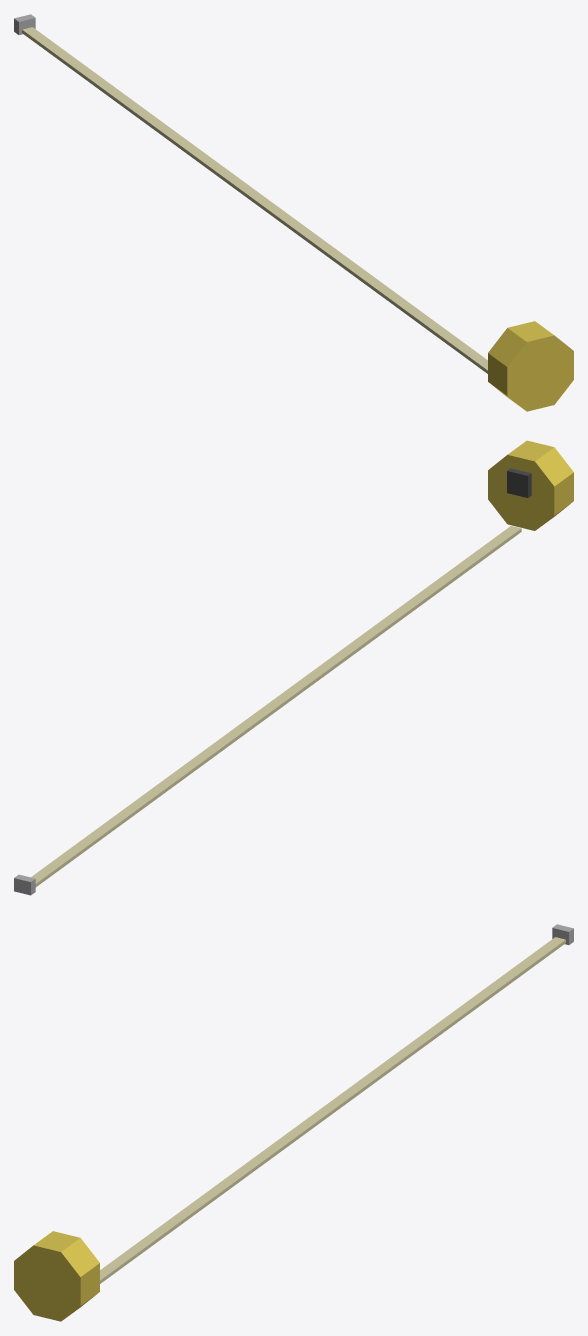
File: tape_measure_deco.glb
3 renders of one model, top to bottom at view 1: azimuth 30°, elevation 25°; view 2: azimuth 150°, elevation 25°; view 3: azimuth 330°, elevation 25°, orthographic.
Parts seen in each view (by area): view 1: Tape_measure; view 2: Tape_measure; view 3: Tape_measure.
Part boxes in pixels (box(x1,y1,x2,y2)): Tape_measure: box(14, 14, 573, 411); Tape_measure: box(14, 440, 573, 895); Tape_measure: box(14, 924, 573, 1321).
Bounding box in the file's own units: 0.1571 × 0.1585 × 2.12.
